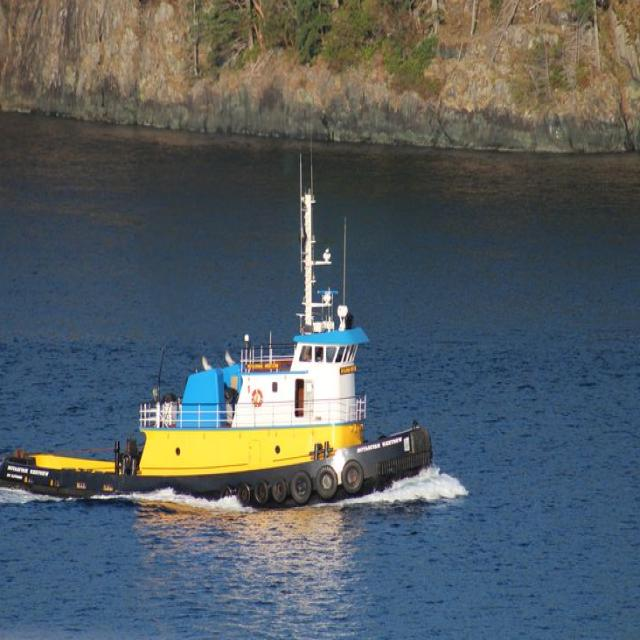houseboat: (1, 212, 431, 502)
